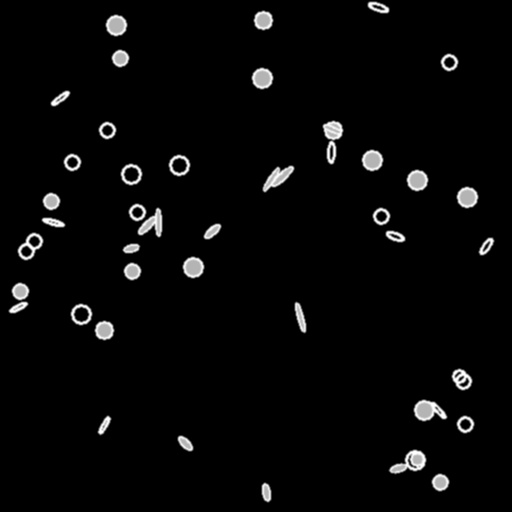pseudomonas: (270, 164, 294, 188), (262, 167, 280, 191), (137, 215, 157, 235), (294, 302, 306, 332), (429, 401, 447, 419), (50, 90, 70, 106), (478, 237, 494, 255), (203, 223, 221, 239), (367, 1, 389, 13), (177, 435, 193, 451), (385, 230, 405, 242), (322, 123, 342, 135), (42, 217, 64, 227), (98, 416, 110, 434), (9, 301, 27, 313), (389, 463, 407, 473), (155, 208, 161, 236), (123, 243, 139, 253), (262, 484, 270, 500), (328, 142, 334, 162)
synechocystis: (363, 151, 381, 169), (170, 156, 188, 174), (184, 258, 202, 276), (122, 165, 140, 183), (408, 171, 426, 189), (107, 16, 125, 34), (458, 188, 476, 206), (415, 401, 433, 419), (253, 69, 271, 87), (406, 451, 424, 469), (72, 305, 90, 323), (325, 122, 341, 138), (96, 322, 112, 338), (255, 12, 271, 28), (44, 194, 58, 208), (19, 244, 33, 258), (433, 475, 447, 489), (113, 51, 127, 65), (13, 284, 27, 298), (125, 264, 139, 278), (442, 55, 456, 69), (458, 417, 472, 431), (130, 205, 144, 219), (100, 123, 114, 137), (374, 209, 388, 223), (27, 234, 41, 248), (456, 374, 470, 388), (65, 155, 79, 169), (453, 370, 465, 382), (411, 453, 423, 465)
